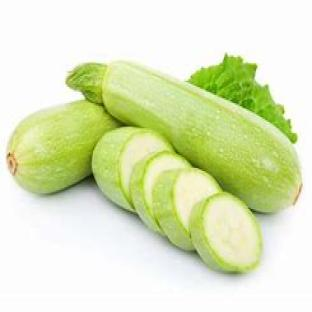Zucchini: (68, 62, 301, 212), (7, 100, 119, 193), (92, 127, 173, 212), (190, 192, 262, 272), (153, 168, 220, 250), (130, 151, 189, 234)
